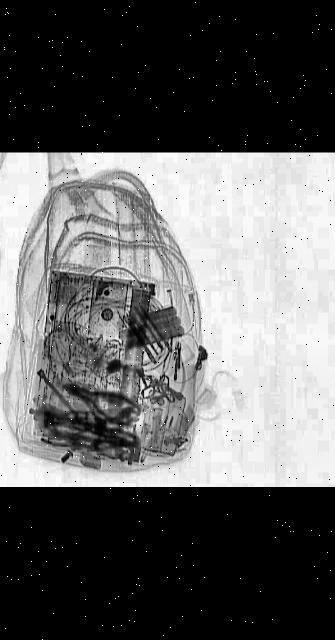Pliers: (51, 376, 148, 428)
